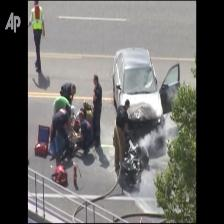smoke: (132, 114, 177, 205)
